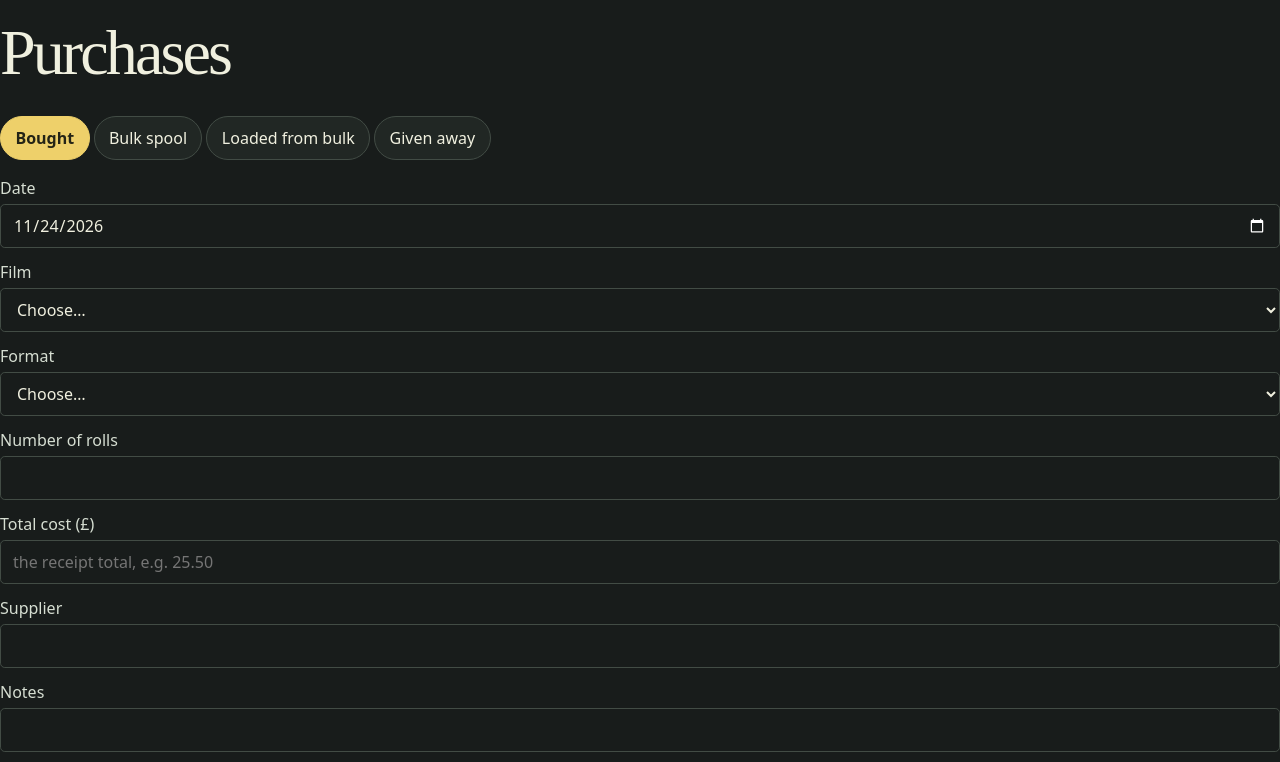
it: bulk mode previews the film a load will use and records it
The width and height of the screenshot is (1280, 762).
Click the tab "Loaded from bulk" at (288, 138), box [206,116,370,160]
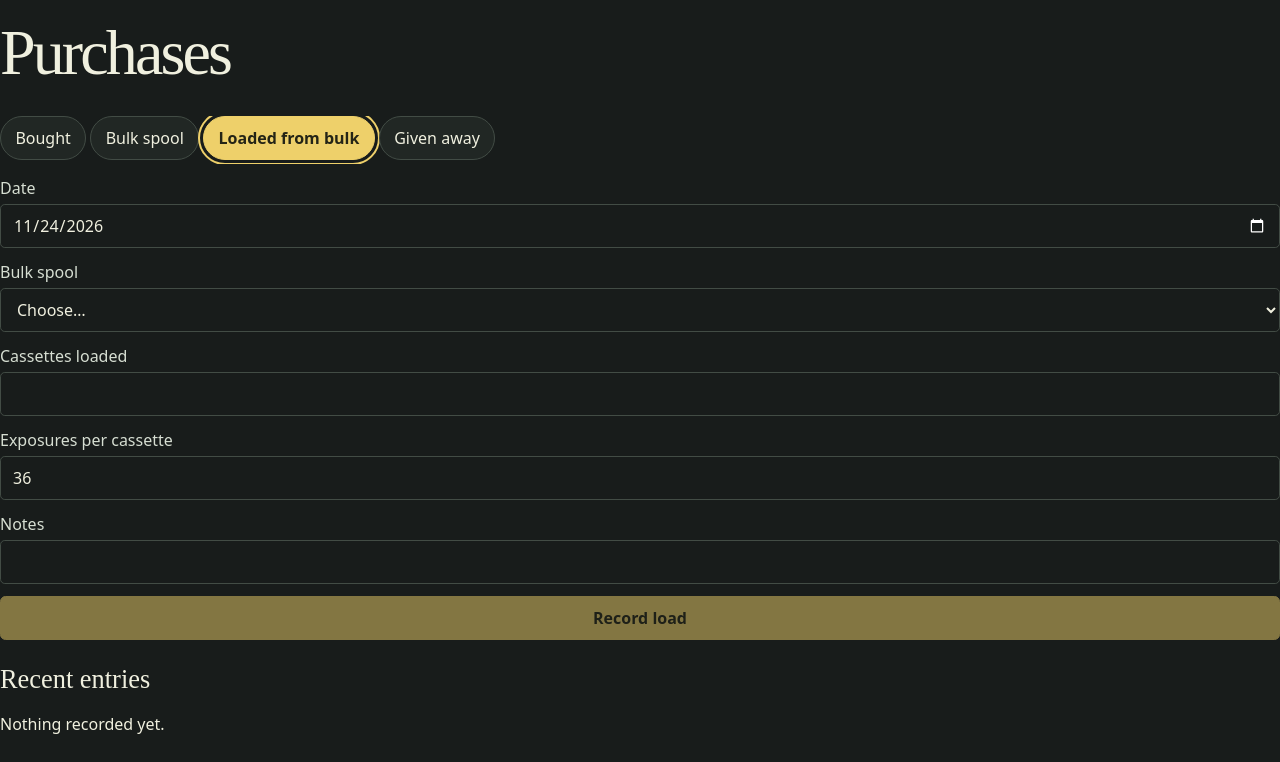
Select "Bulk 1 (Fomapan 100)" in the dropdown labelled "Bulk spool" at (640, 310), box [0,288,1279,332]
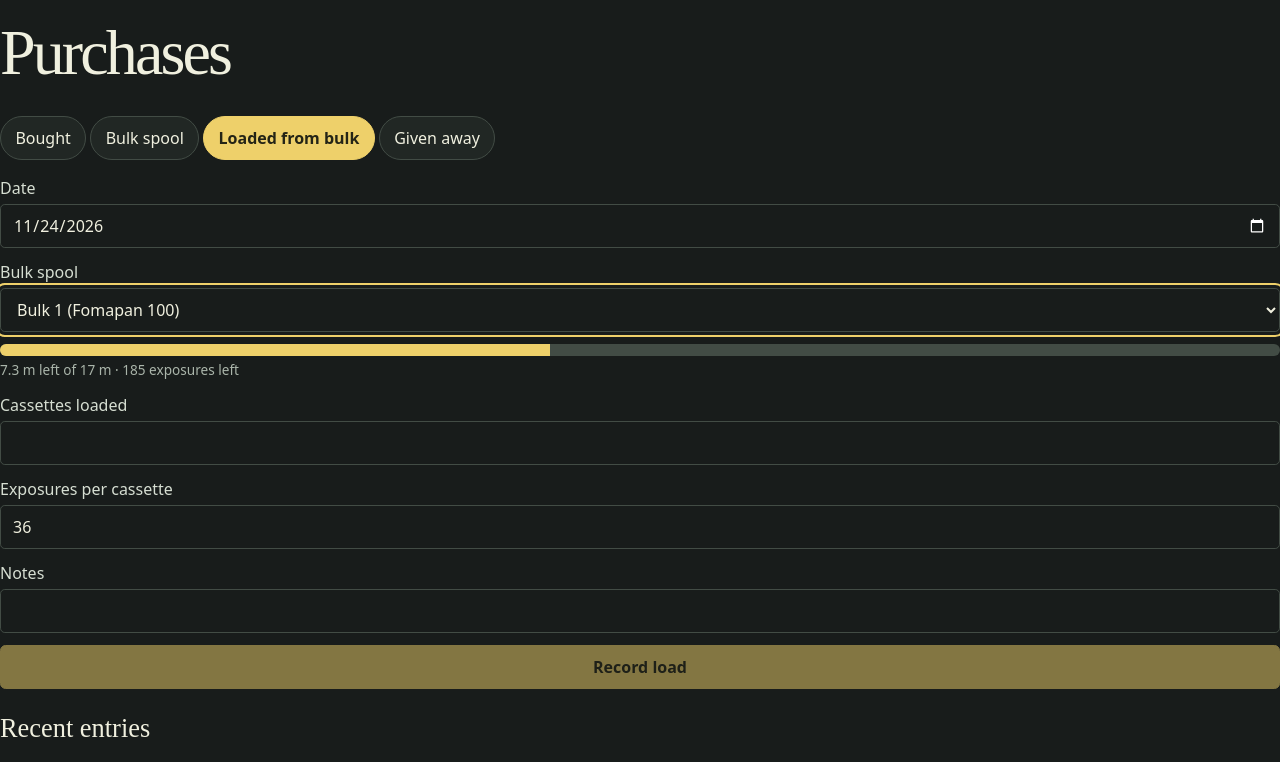
Type "2" into the field labelled "Cassettes loaded" at (640, 443), box [0,421,1279,465]
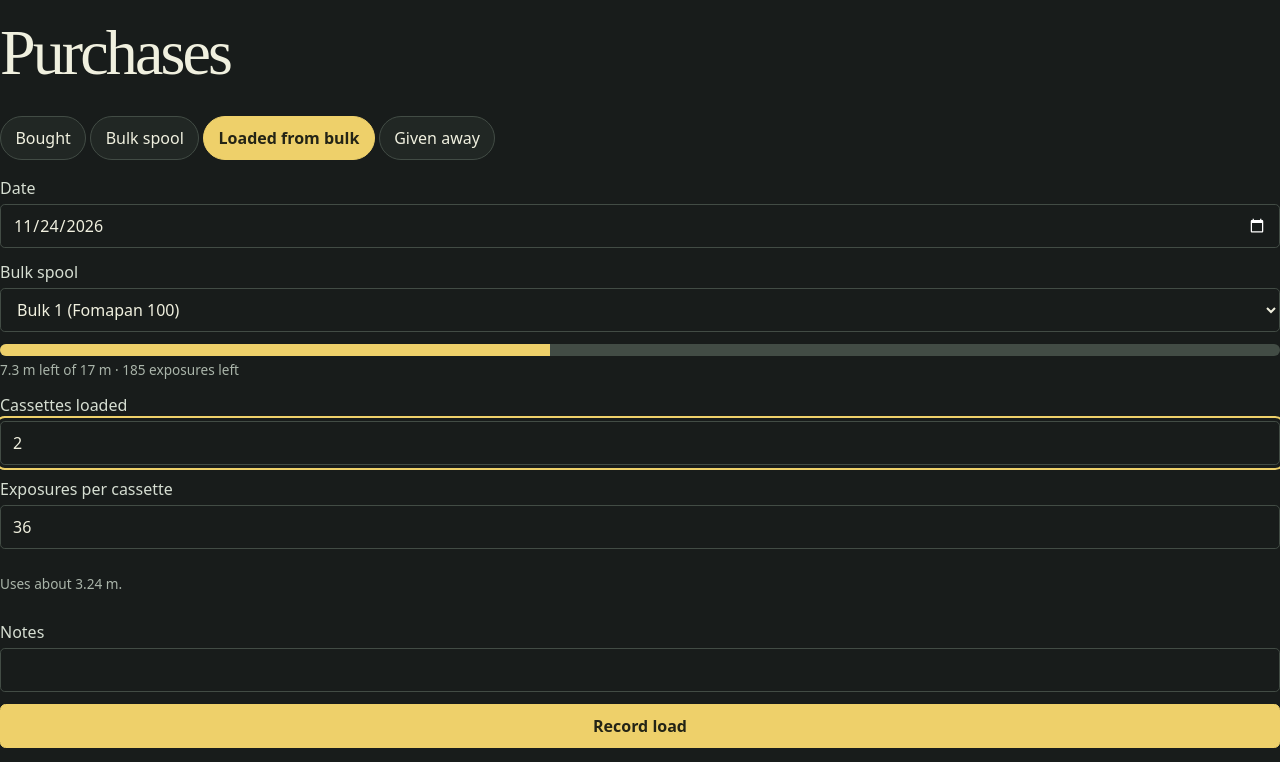
Expected: the text "Uses about 3.24 m." is shown, [0,574,122,593]
Click the button "Record load" at (640, 726), box [0,704,1279,748]
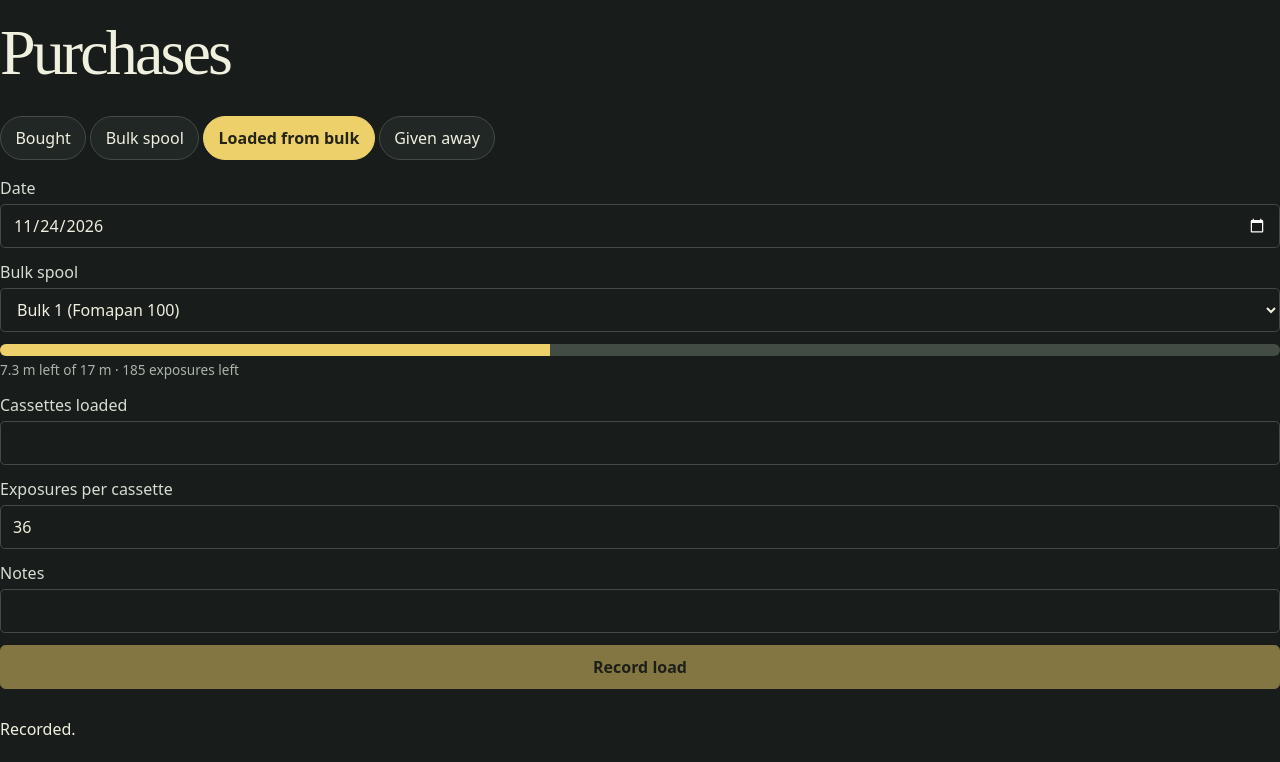
Expected: the text "Recorded." is shown, [0,718,76,740]
